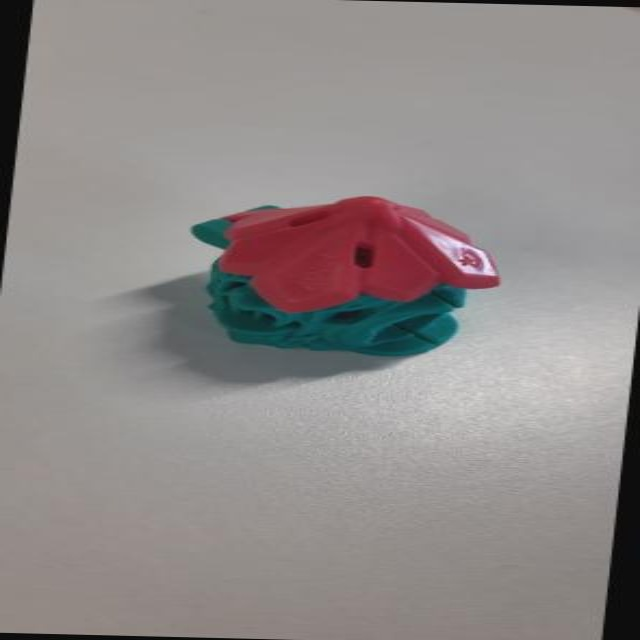House: (168, 188, 522, 376)
